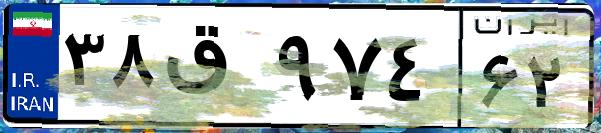2: (525, 38, 570, 115)
3: (57, 26, 110, 100)
4: (385, 28, 445, 110)
6: (475, 38, 525, 113)
7: (330, 28, 385, 110)
8: (110, 28, 158, 98)
9: (270, 28, 330, 110)
ق: (158, 20, 270, 120)
